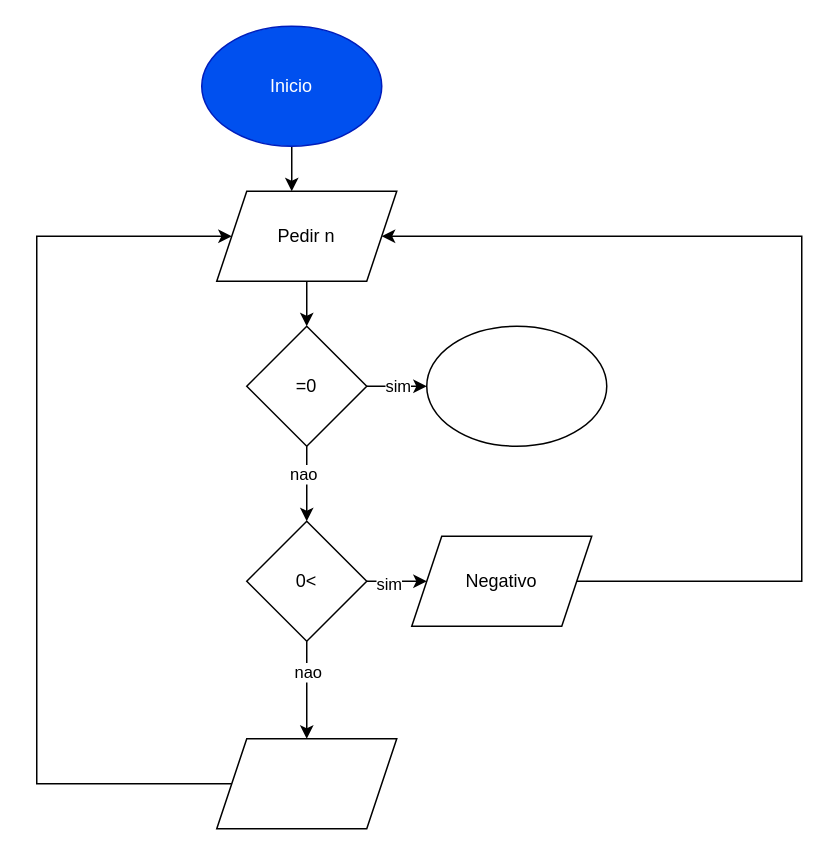
Some shapes in this 840 by 855 pixel diagram are drawn without their labels. The shapes that lost their labels are listed below. From the top down, each one's centre as x and y in pixels, then its label:
At (x=516, y=385): "Fim".
At (x=306, y=783): "Positivo".
